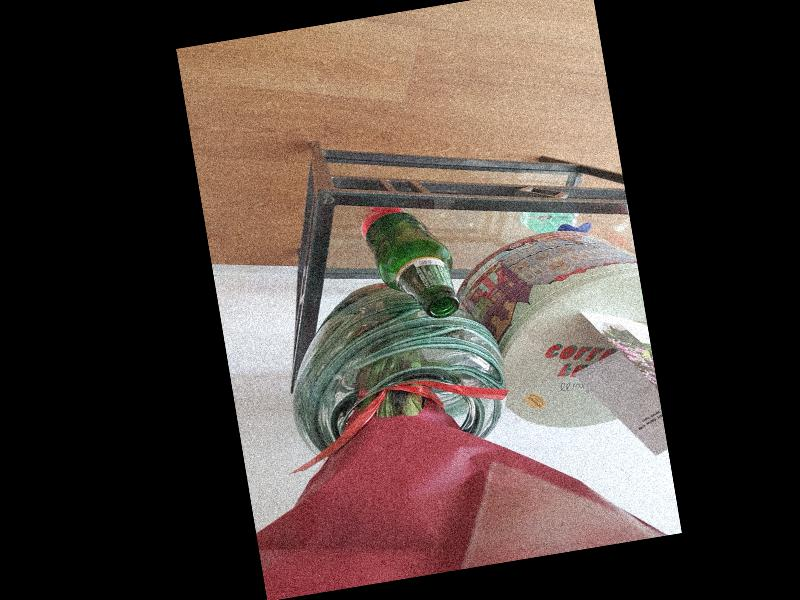Beer: (361, 204, 461, 327)
